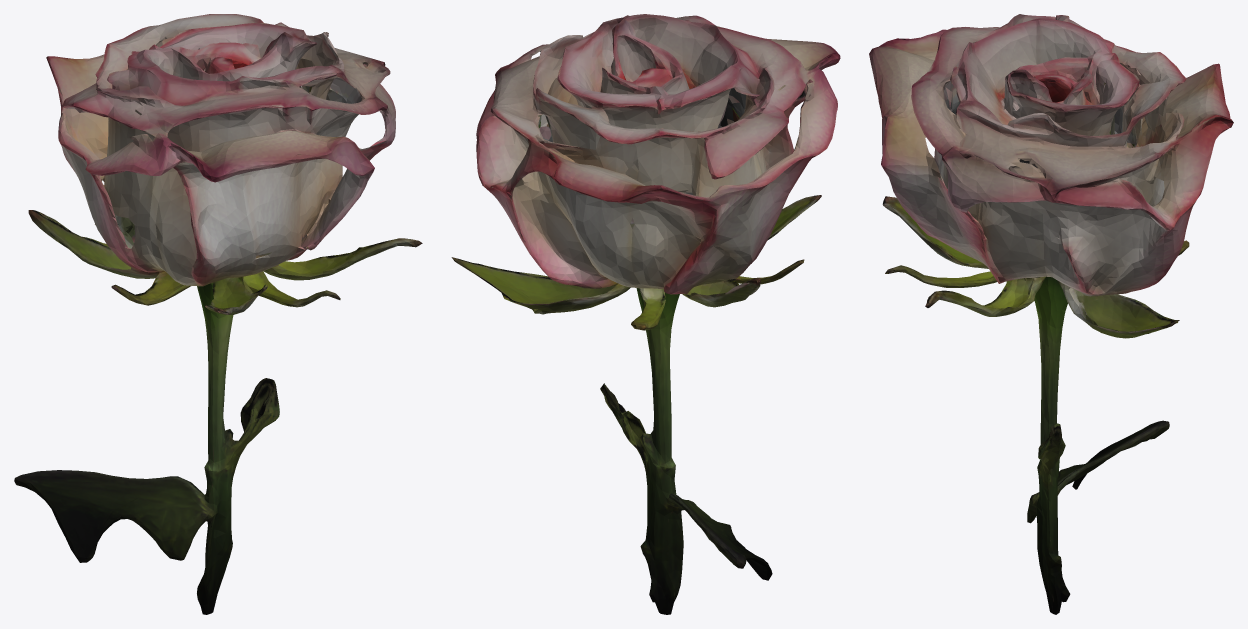
The picture shows the model from 3 angles, left to right: view 1: azimuth 30°, elevation 25°; view 2: azimuth 150°, elevation 25°; view 3: azimuth 270°, elevation 25°; orthographic projection. The views are drawn at different scales.
Visible parts, largest first — view 1: world; view 2: world; view 3: world.
Boxes of the visible parts, box(x1,y1,x2,y2) form: world: box(14, 14, 422, 614); world: box(451, 14, 840, 614); world: box(869, 14, 1233, 614).
Size of the model in its own units: 0.5742 by 0.9975 by 0.5763.
Materials: 1 (1 with a texture image).
